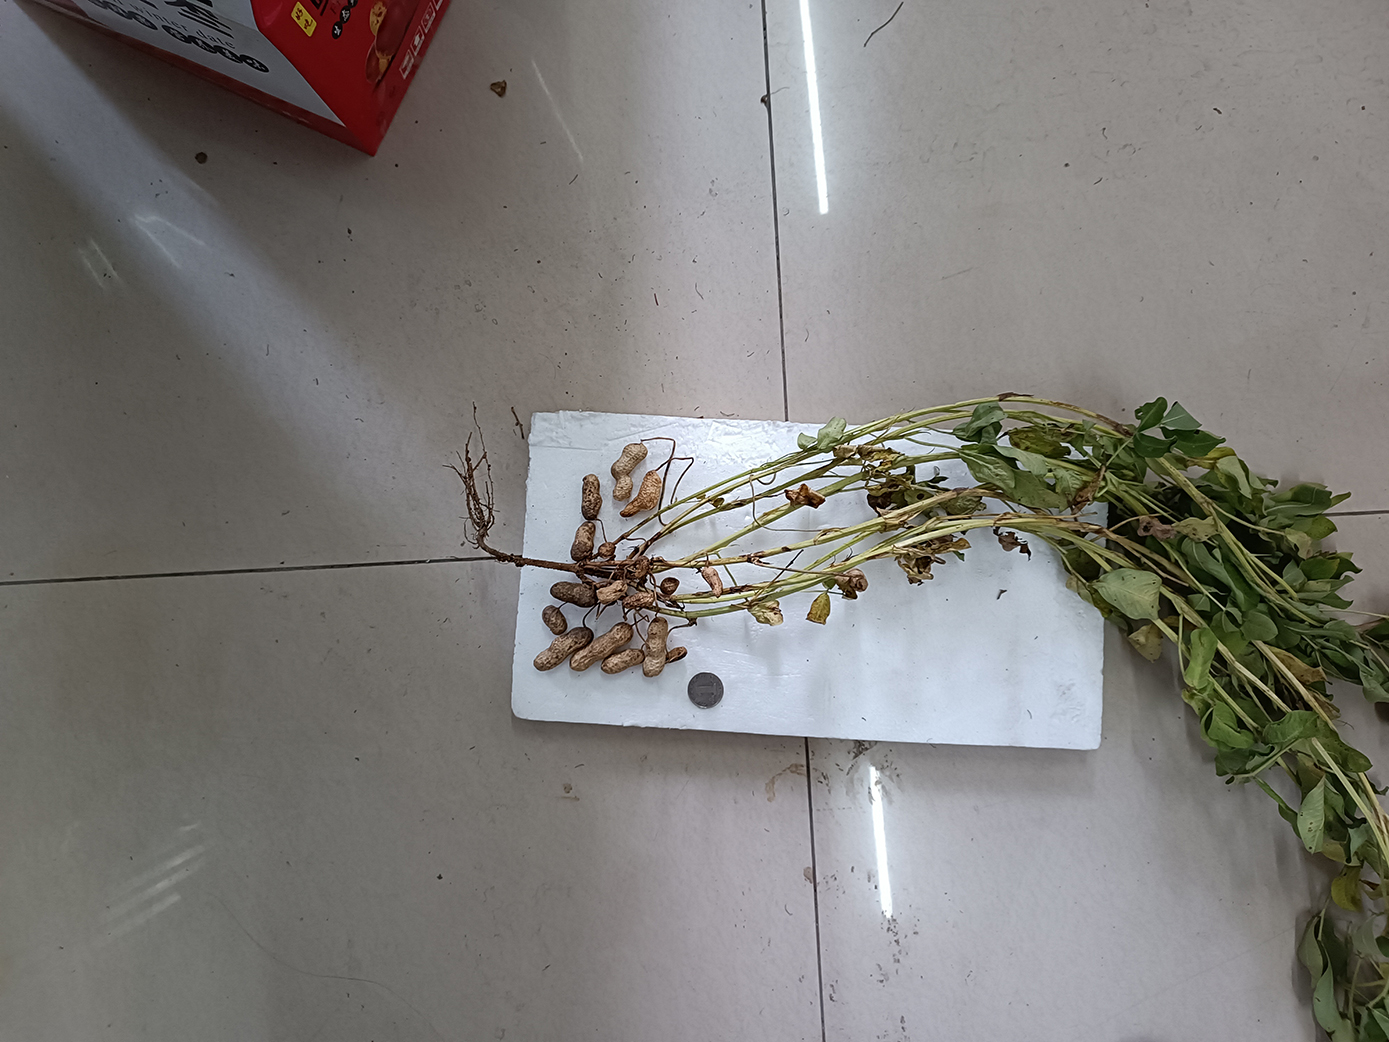h: (570, 622, 635, 669), (533, 628, 594, 671), (610, 442, 646, 500), (620, 471, 660, 518), (644, 617, 665, 678), (572, 521, 594, 565), (602, 649, 644, 672), (702, 565, 724, 599), (543, 605, 567, 635), (597, 581, 625, 605), (626, 590, 657, 610), (622, 558, 648, 580), (663, 646, 687, 660), (599, 541, 616, 558)
l: (549, 581, 597, 607), (581, 474, 602, 520), (660, 577, 681, 597)
